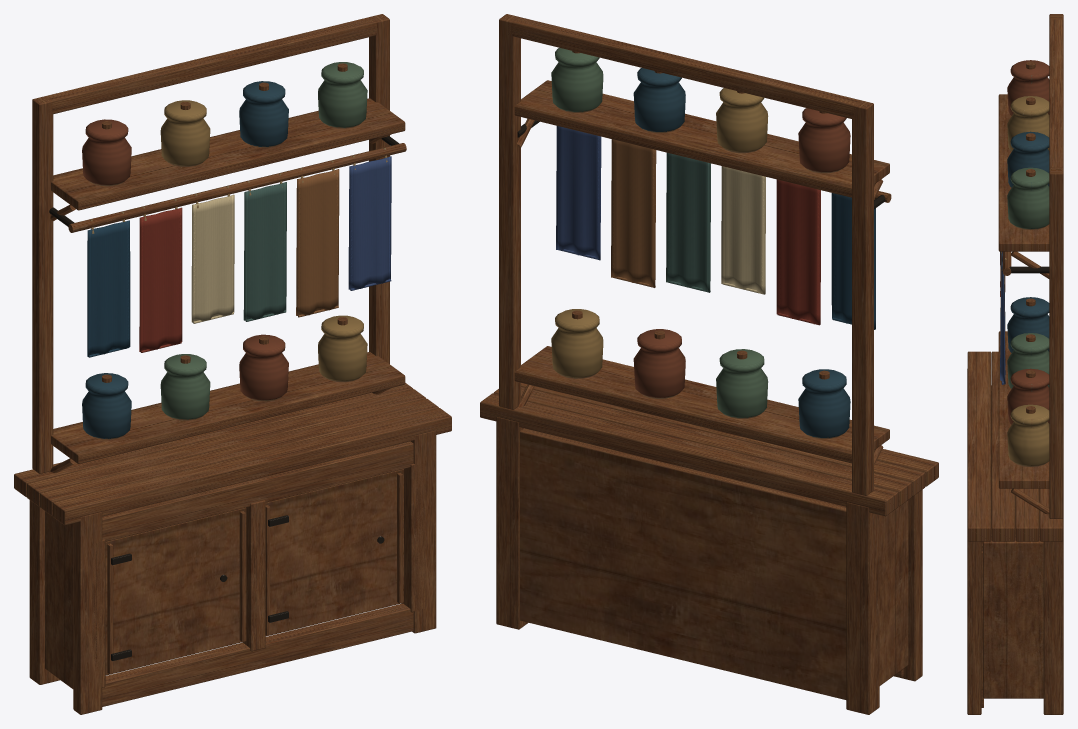
The model's file is b18-dye-counter.glb.
The picture shows the model from 3 angles, left to right: view 1: azimuth 30°, elevation 25°; view 2: azimuth 150°, elevation 25°; view 3: azimuth 270°, elevation 25°; orthographic projection. The views are drawn at different scales.
Visible parts, largest first — view 1: b18-dye-counter; view 2: b18-dye-counter; view 3: b18-dye-counter.
Boxes of the visible parts, <box> form: b18-dye-counter: <box>14,14,451,714</box>; b18-dye-counter: <box>480,14,938,714</box>; b18-dye-counter: <box>967,14,1063,714</box>.
Bounding box in the file's own units: 1.48 × 2.11 × 0.34.
Materials: 1 (1 with a texture image).
